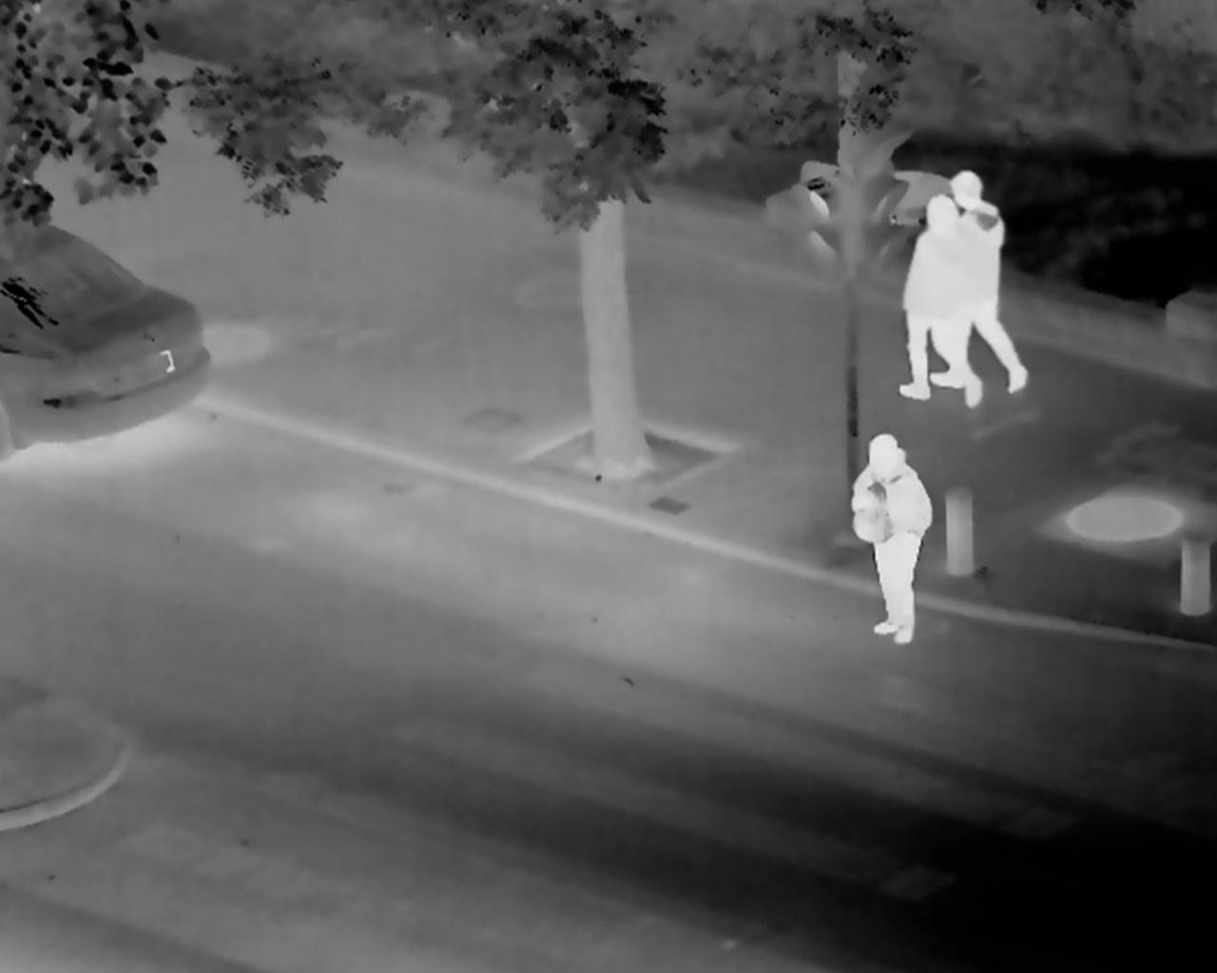person: (842, 428, 941, 647), (959, 167, 1034, 406), (905, 192, 972, 419)
